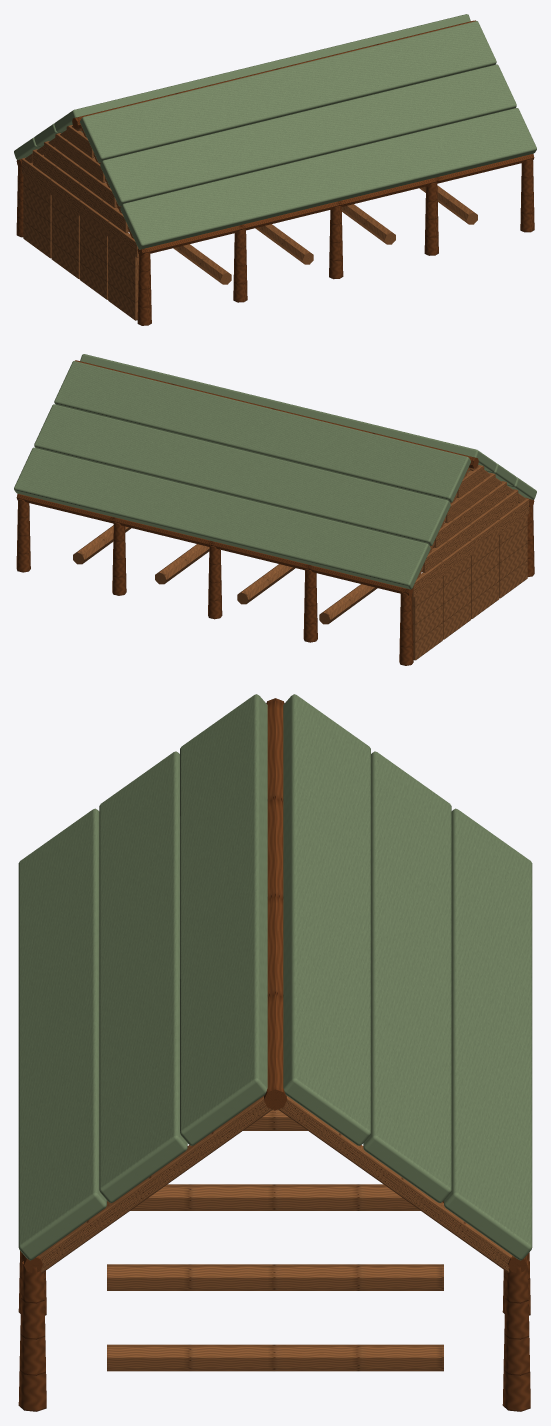
The model's file is viking-age-longhouse-and-longship-ship-shed-940ad35d__30193.glb.
The picture shows the model from 3 angles, top to bottom: view 1: azimuth 30°, elevation 25°; view 2: azimuth 150°, elevation 25°; view 3: azimuth 270°, elevation 25°; orthographic projection. The views are drawn at different scales.
Visible parts, largest first — view 1: ship-shed; view 2: ship-shed; view 3: ship-shed.
Boxes of the visible parts, box(x1,y1,x2,y2) form: ship-shed: box(14, 14, 536, 325); ship-shed: box(14, 354, 536, 665); ship-shed: box(18, 694, 532, 1411).
Size of the model in its own units: 8.8 by 3.49 by 4.88.
3 materials, 3 textured.
